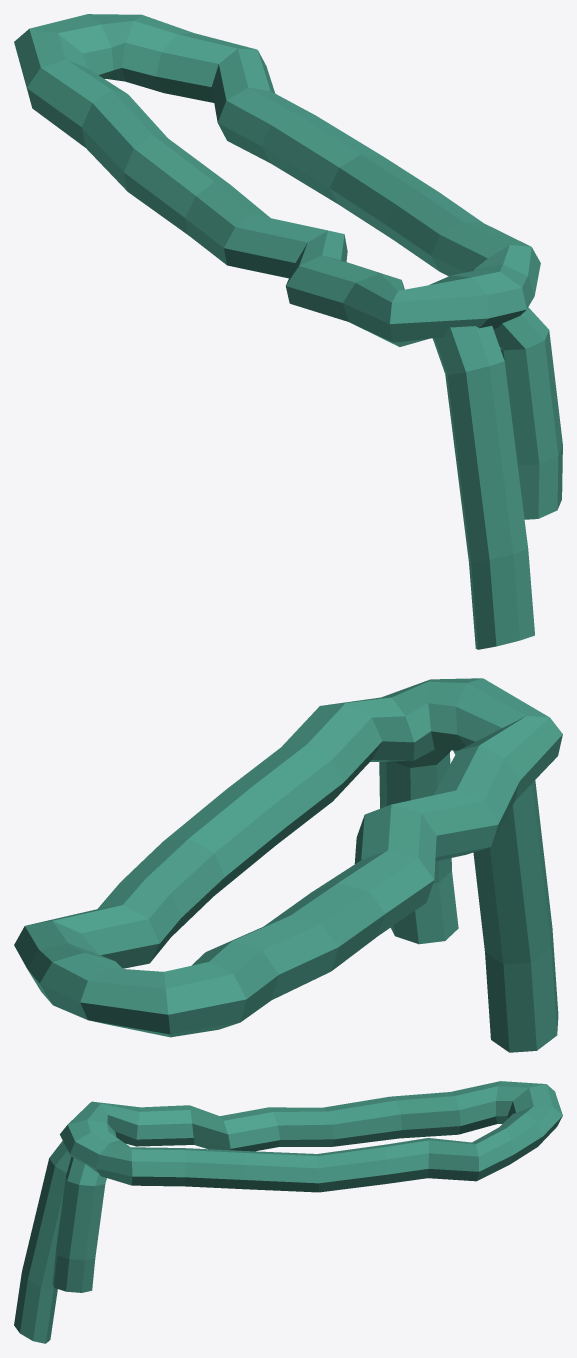
File: Bedroom_2_Rope.fbx
3 renders of one model, top to bottom at view 1: azimuth 30°, elevation 25°; view 2: azimuth 150°, elevation 25°; view 3: azimuth 270°, elevation 25°, orthographic. The views are drawn at different scales.
Parts seen in each view (by area): view 1: Bedroom_2_Rope; view 2: Bedroom_2_Rope; view 3: Bedroom_2_Rope.
Part boxes in pixels (x1,y1,x2,y2): Bedroom_2_Rope: (14, 14, 562, 649); Bedroom_2_Rope: (14, 678, 562, 1052); Bedroom_2_Rope: (14, 1081, 562, 1343).
Size of the model in its own units: 22.7 by 33.69 by 72.35.
